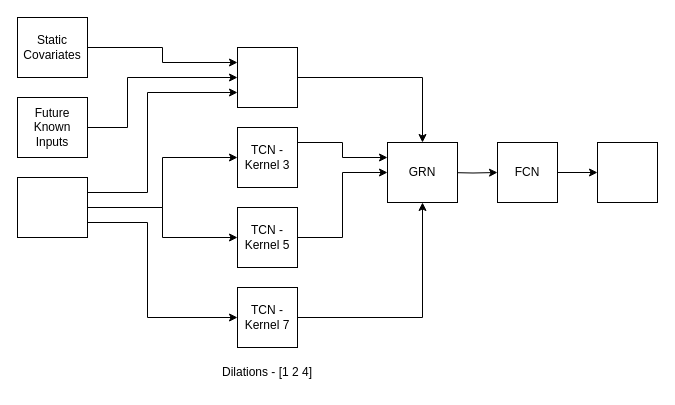
Some shapes in this 675 by 405 pixel diagram are drawn without their labels. The shapes that lost their labels are listed below. From the top down, each one's centre as x and y in pixels, then its label:
[267,77]: TFT
[627,172]: Output
[52,207]: Past Observed Inputs
